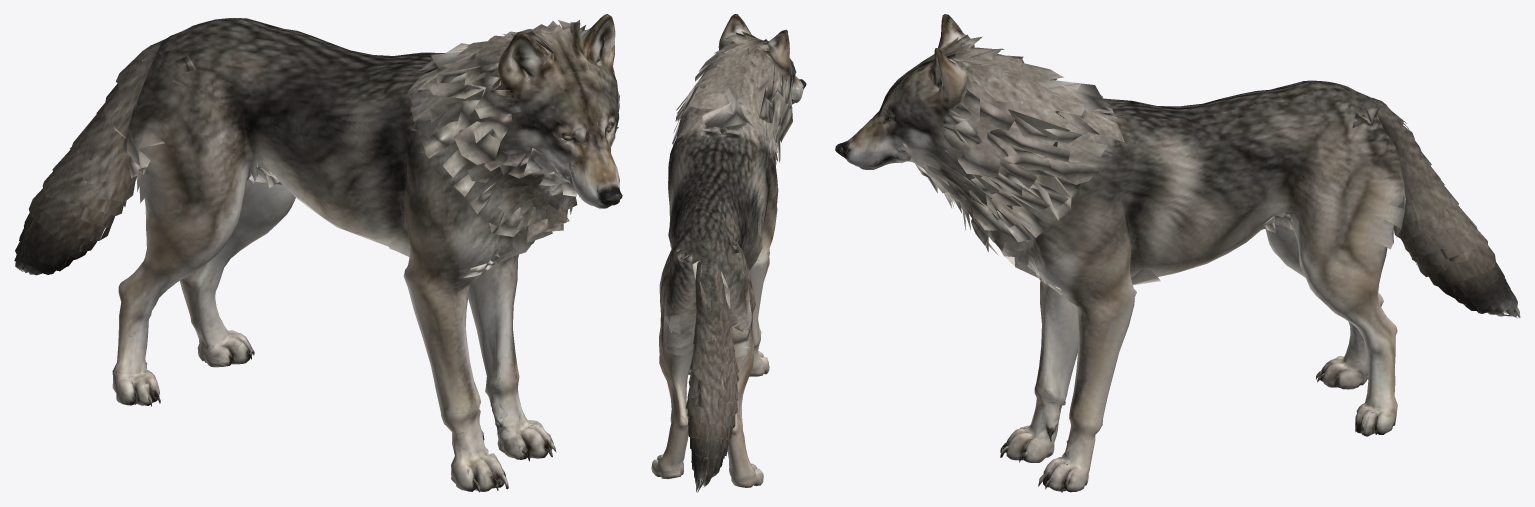
Rendered from wolf.glb.
The picture shows the model from 3 angles, left to right: view 1: azimuth 30°, elevation 25°; view 2: azimuth 150°, elevation 25°; view 3: azimuth 270°, elevation 25°; orthographic projection. The views are drawn at different scales.
Bounding box in the file's own units: 0.4585 × 0.6768 × 0.9507.
1 material, 1 textured.
